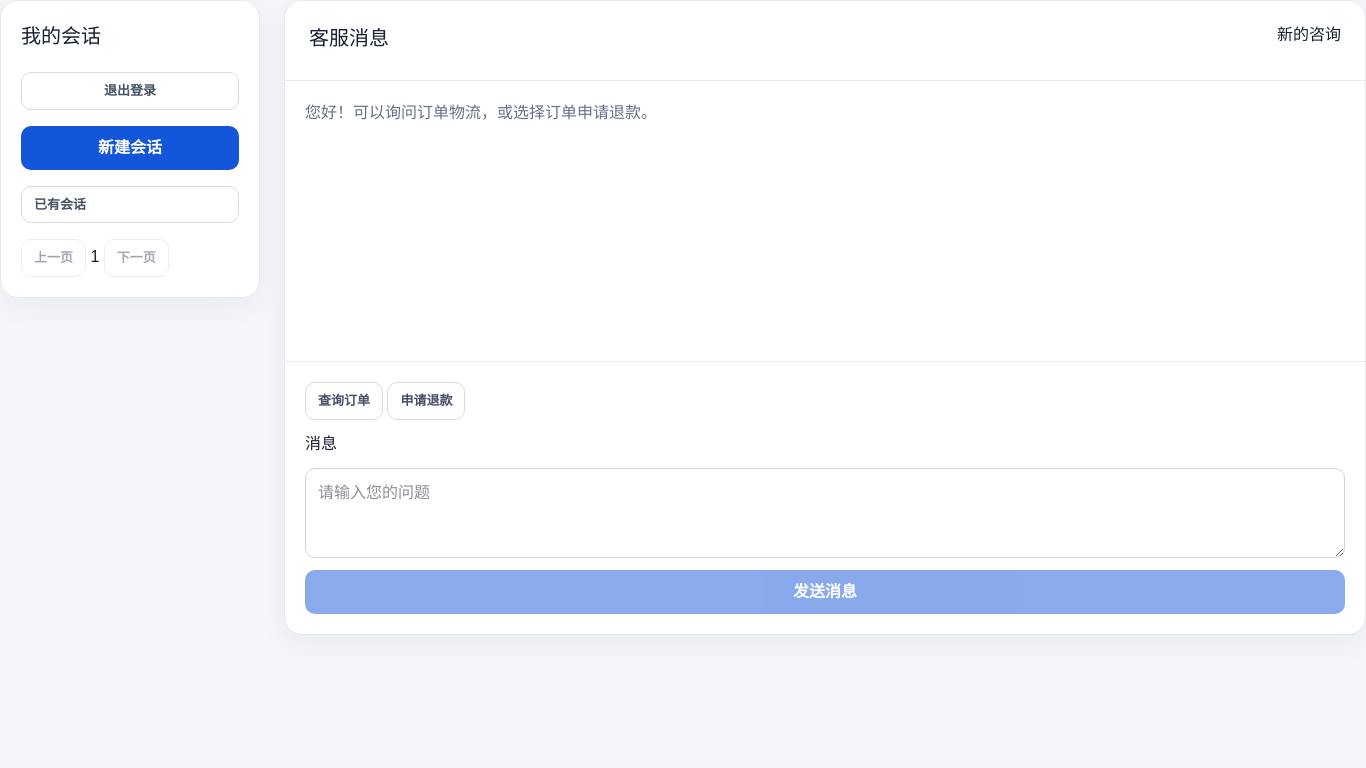
polls approval outcomes and loads older history without discarding it
Click the button "已有会话" at x=130, y=204, box [21,186,239,223]
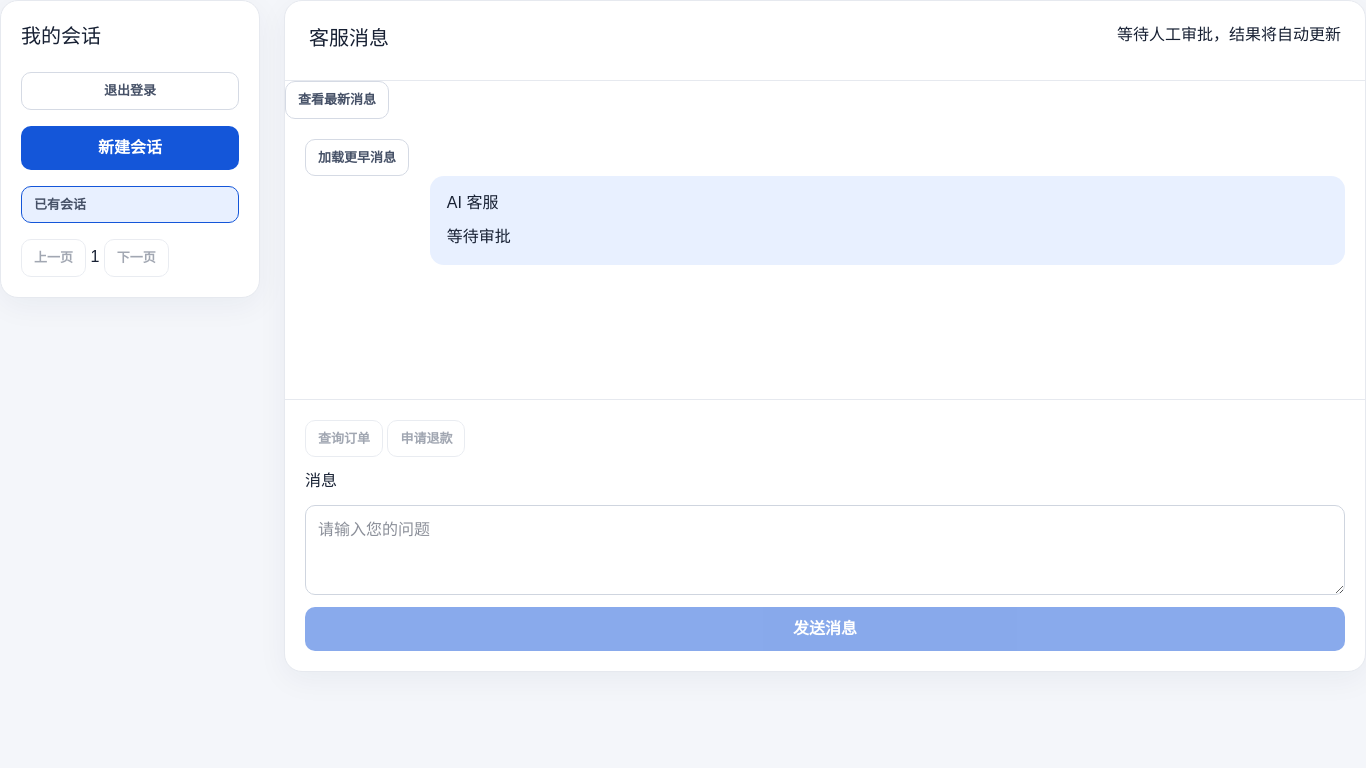
Click the button "加载更早消息" at x=357, y=157, box [305,138,409,176]
Wait 2500 ms
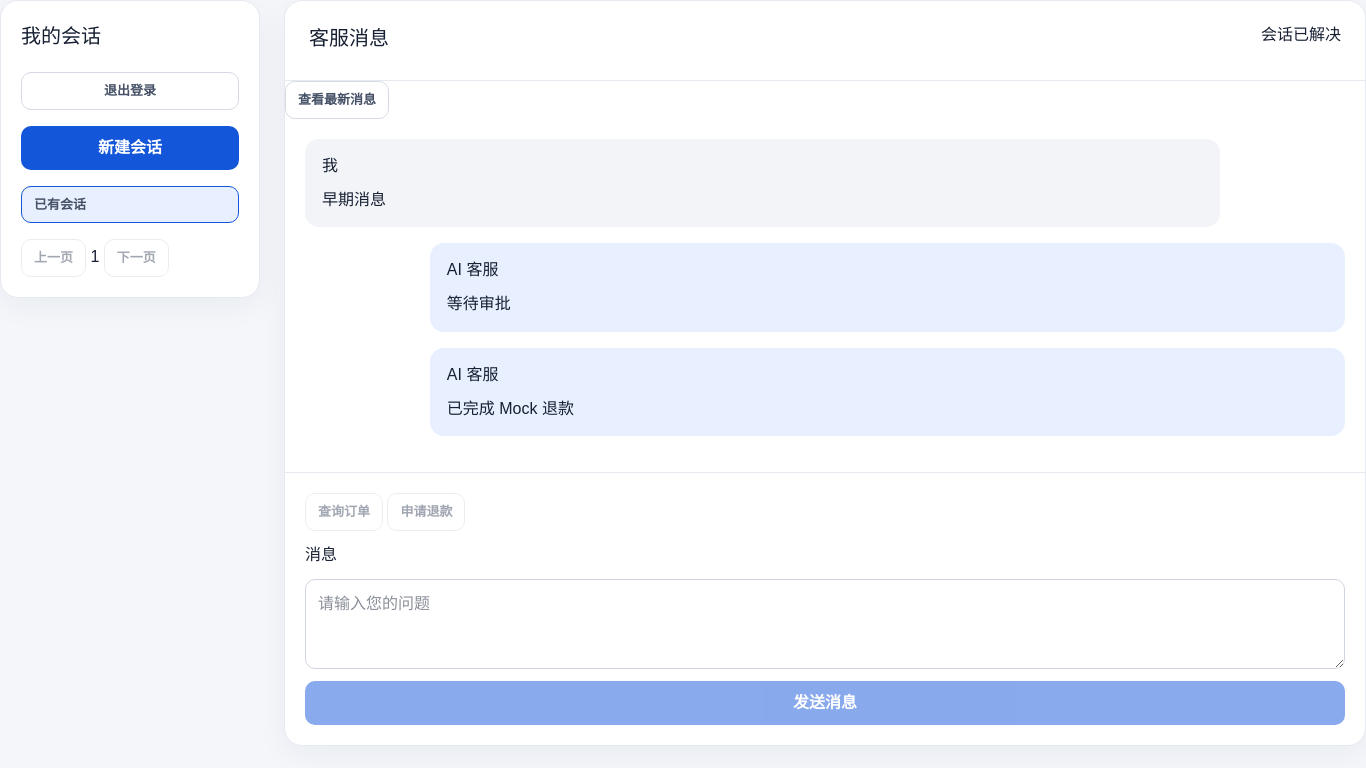
Expected: the text "已完成 Mock 退款" is shown, [447,400,574,417]
Expected: the text "早期消息" is shown, [322,190,386,208]
Expected: the message reads "会话已解决", [1261,26,1341,43]
